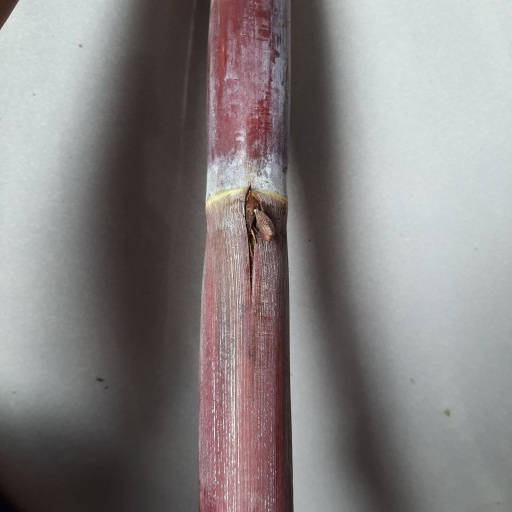Damage_Bud: (241, 187, 275, 259)
